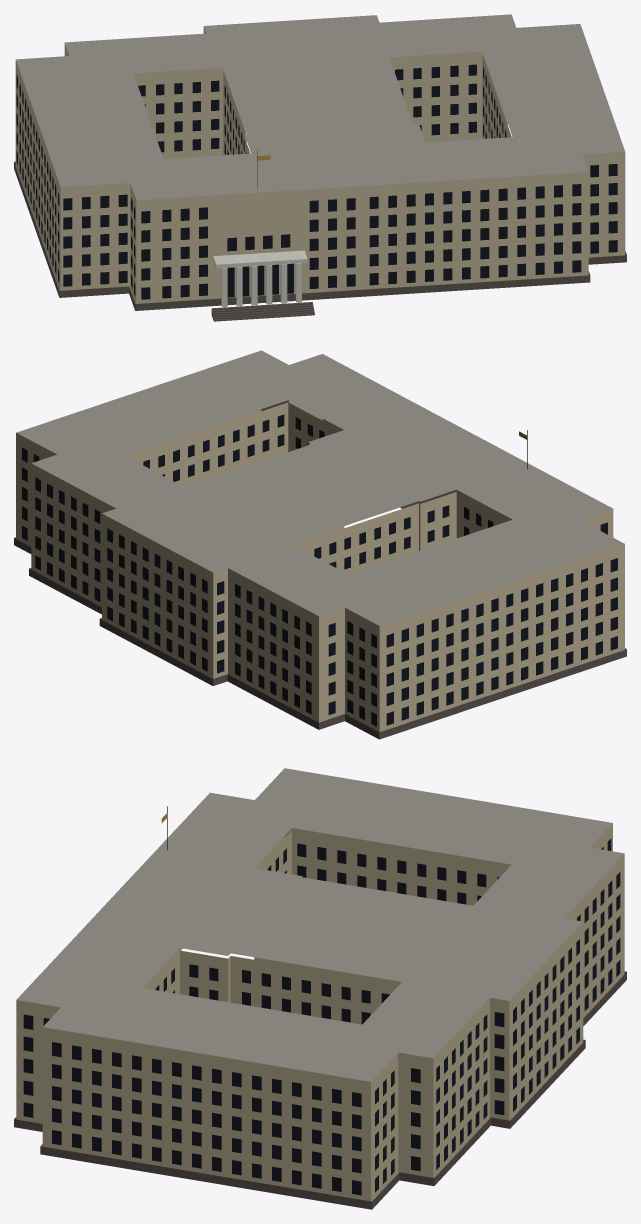
File: whitehouse-lo.glb
The picture shows the model from 3 angles, top to bottom: view 1: azimuth 30°, elevation 25°; view 2: azimuth 150°, elevation 25°; view 3: azimuth 270°, elevation 25°; orthographic projection. The views are drawn at different scales.
Visible parts, largest first — view 1: lm-whitehouse; view 2: lm-whitehouse; view 3: lm-whitehouse.
Part boxes in pixels (<box>): lm-whitehouse: <box>14,14,626,321</box>; lm-whitehouse: <box>14,350,626,739</box>; lm-whitehouse: <box>14,768,626,1209</box>.
Bounding box in the file's own units: 108 × 27.19 × 88.41.
